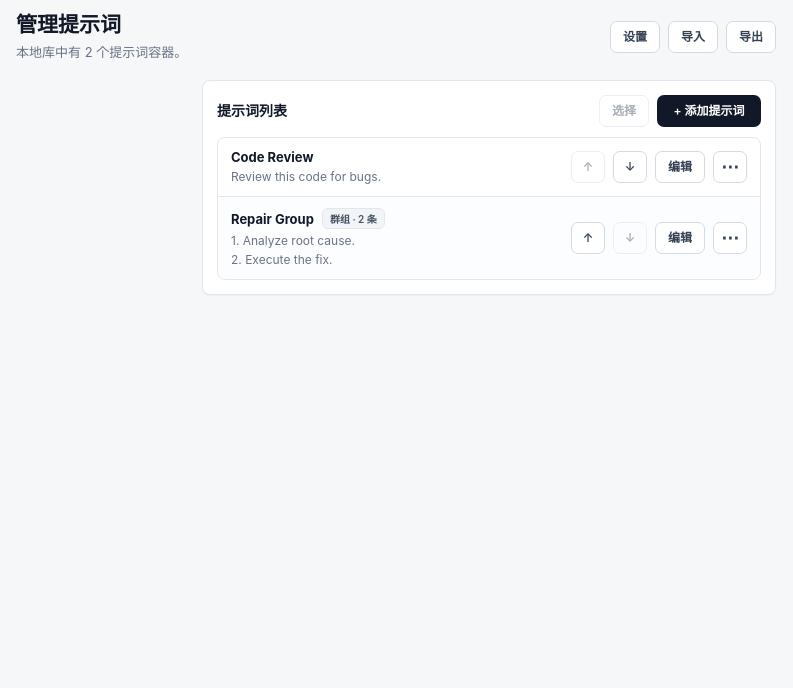
Test: prompt manager › shows group interval in seconds while creating a group
Step 1. Click the button "+ 添加提示词" → (709, 111), box [657,95,761,127]
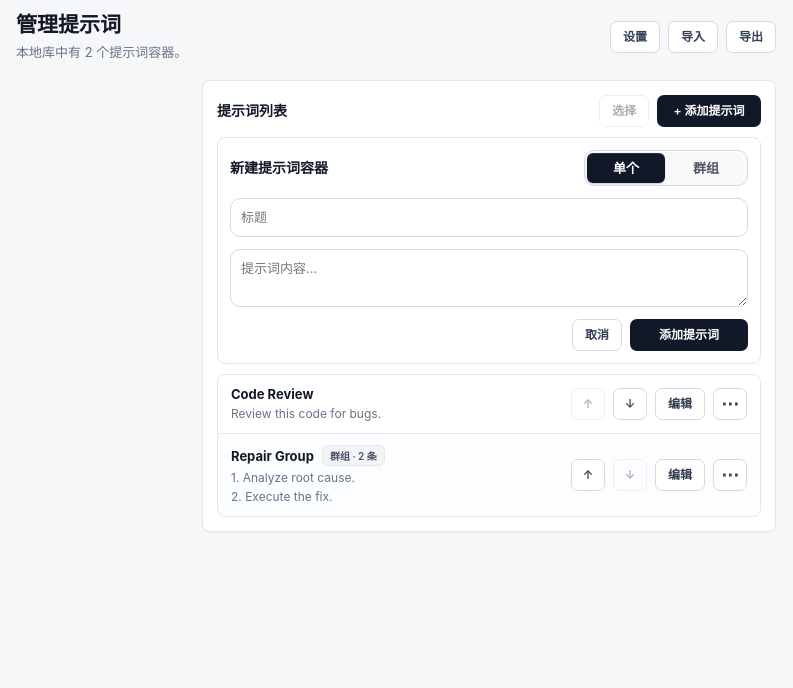
Step 2. Click the button "群组" → (706, 168), box [667,153,745,183]
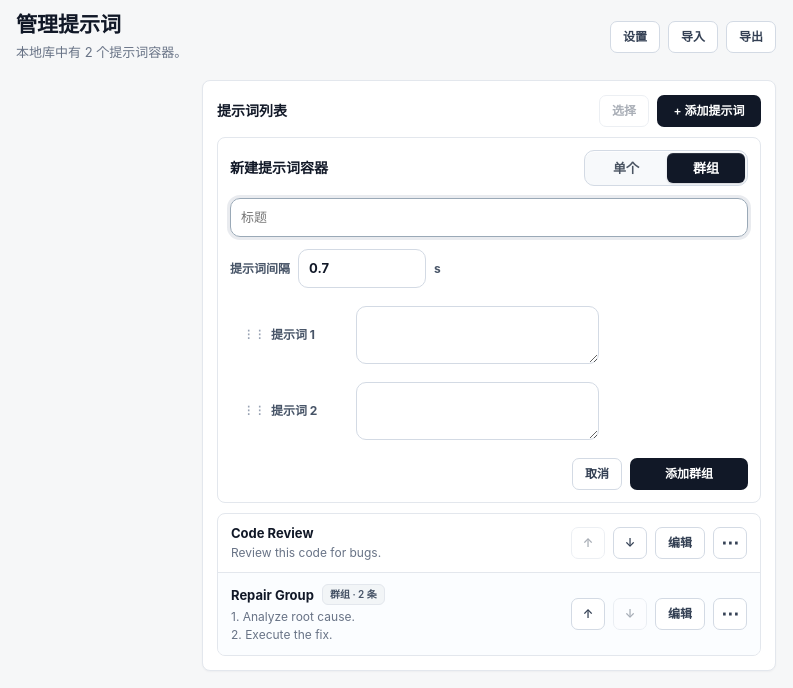
Check: the number field labelled "提示词间隔" holds "0.7", box [298,249,426,288]
Check: the text "s" is shown, box [434,260,441,277]
